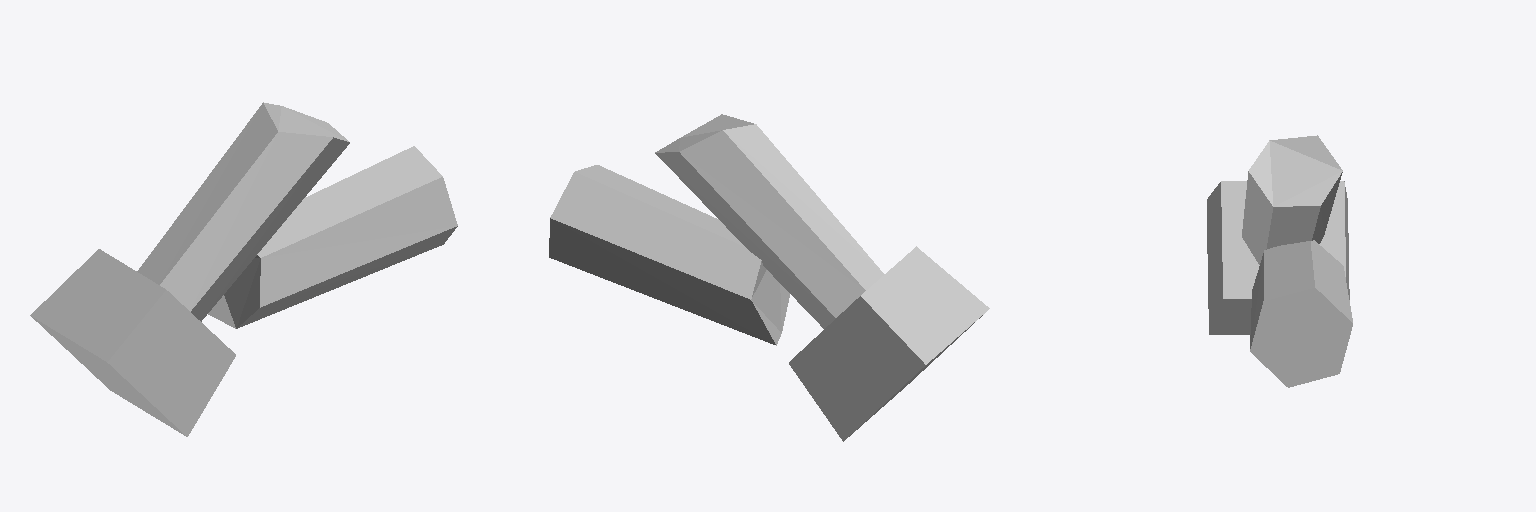
Rendered from column-destr_04.obj.
The picture shows the model from 3 angles: view 1: azimuth 30°, elevation 25°; view 2: azimuth 150°, elevation 25°; view 3: azimuth 270°, elevation 25°; orthographic projection.
Parts seen in each view (by area): view 1: (null); view 2: (null); view 3: (null).
Boxes of the visible parts, x1,y1,x2,y2 form: (null): [30, 102, 457, 436]; (null): [549, 114, 989, 441]; (null): [1207, 135, 1352, 387].
Size of the model in its own units: 2.13 by 1.41 by 0.7057.